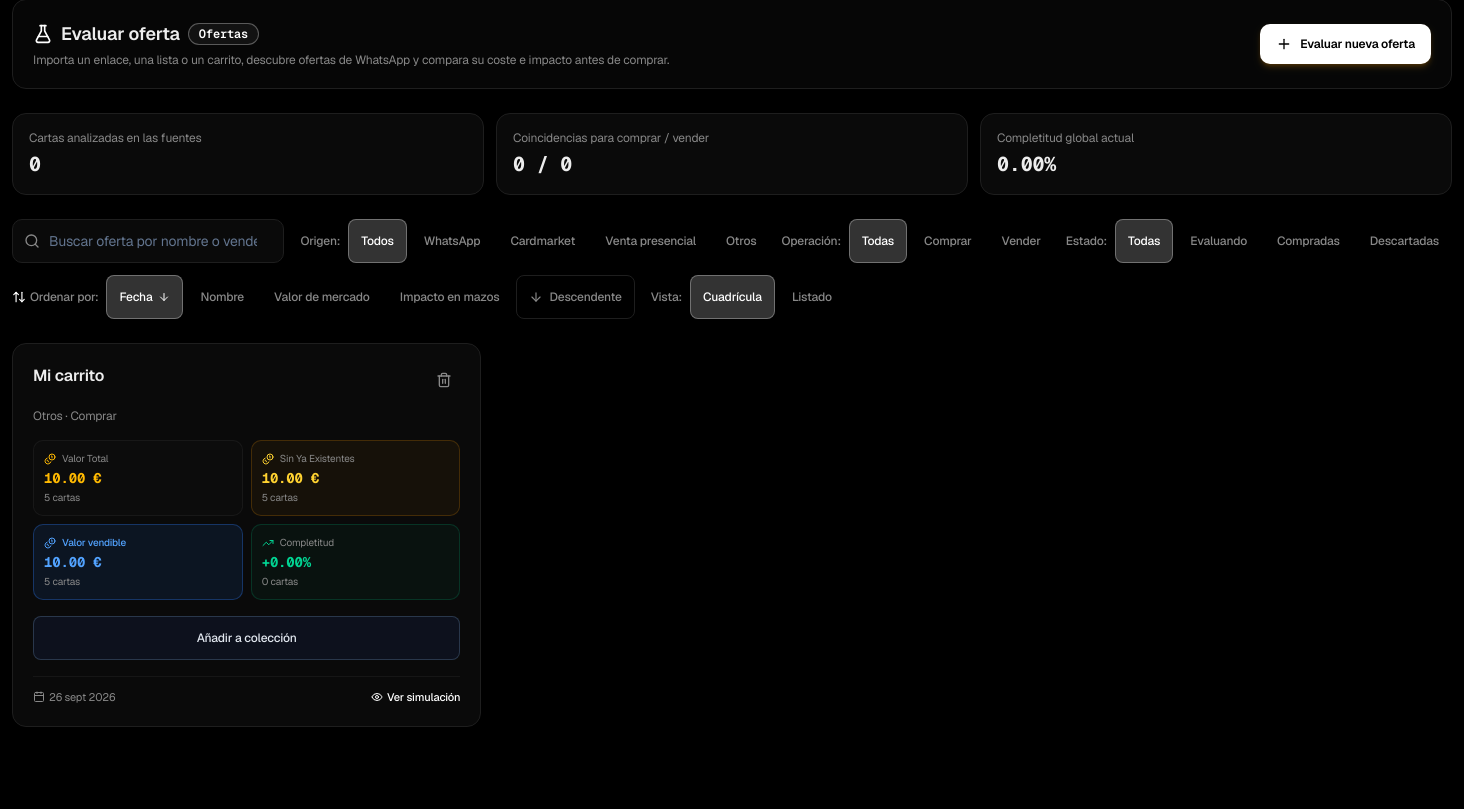
Test: deletes selected cards optimistically and continues after one card fails
Click the heading "Mi carrito" at (69, 376), box [33,364,104,388]
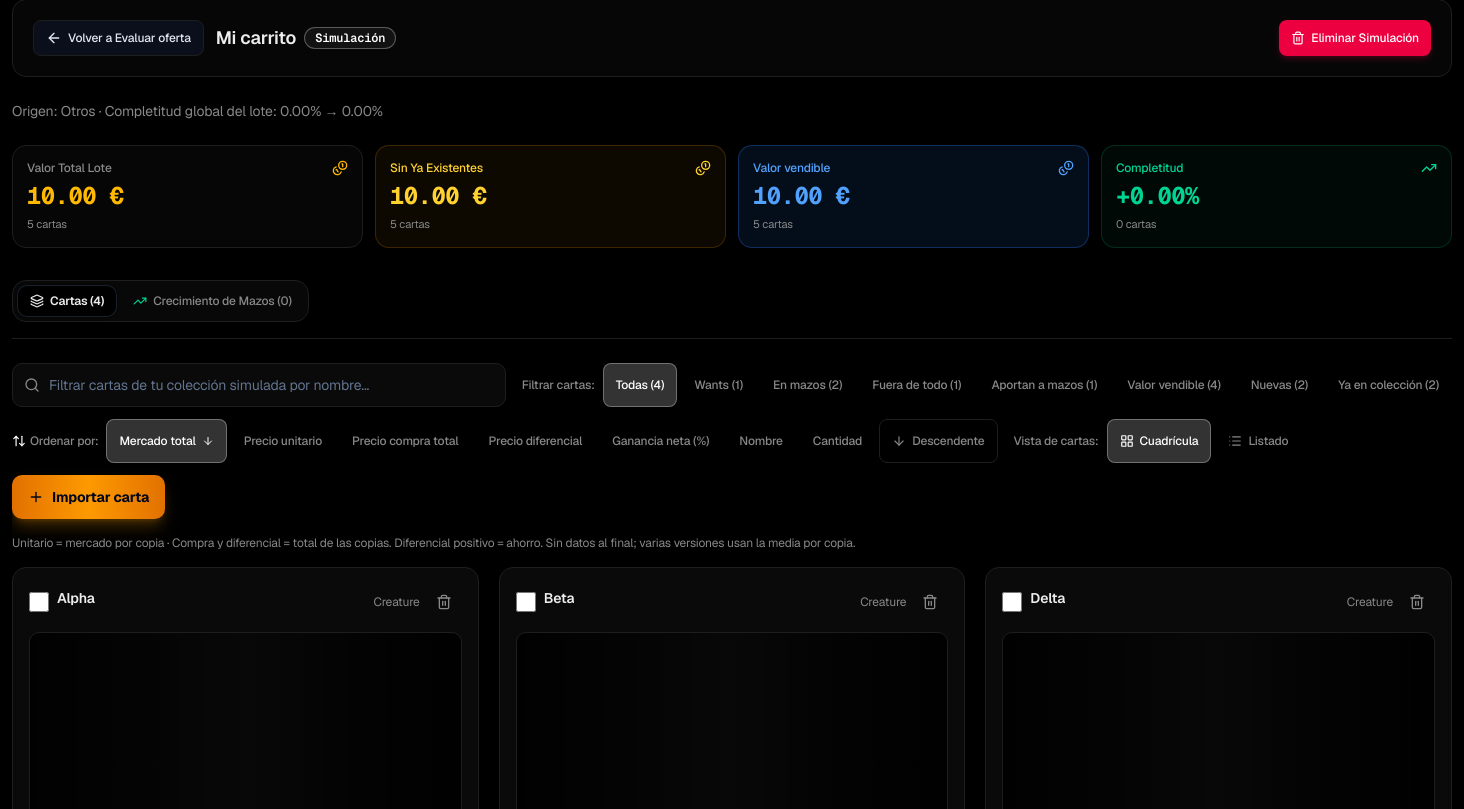
Click the checkbox named "Seleccionar Beta" at (526, 602), box [516,592,536,612]
(page scrolled)
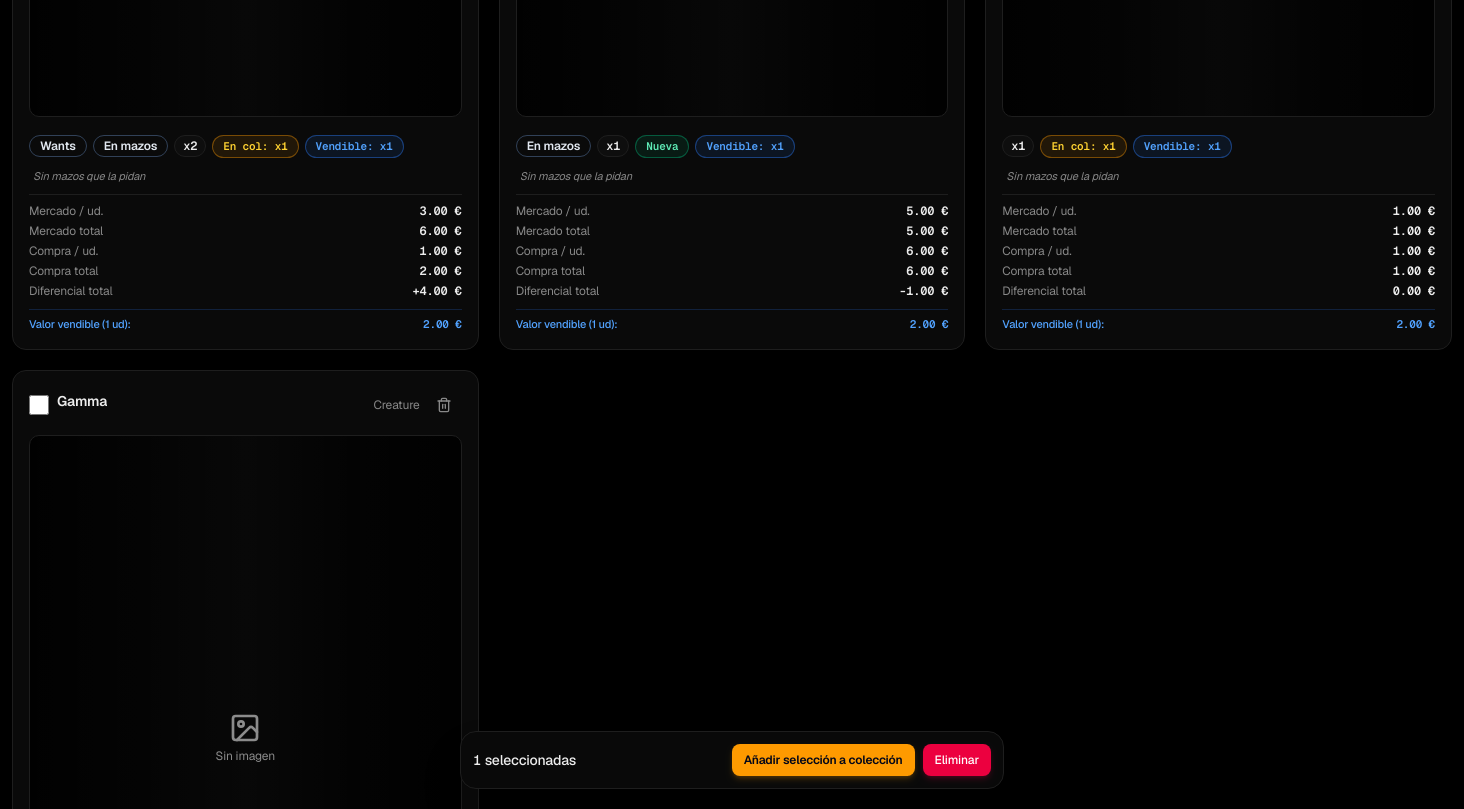
Click the checkbox named "Seleccionar Gamma" at (39, 405), box [29,395,49,415]
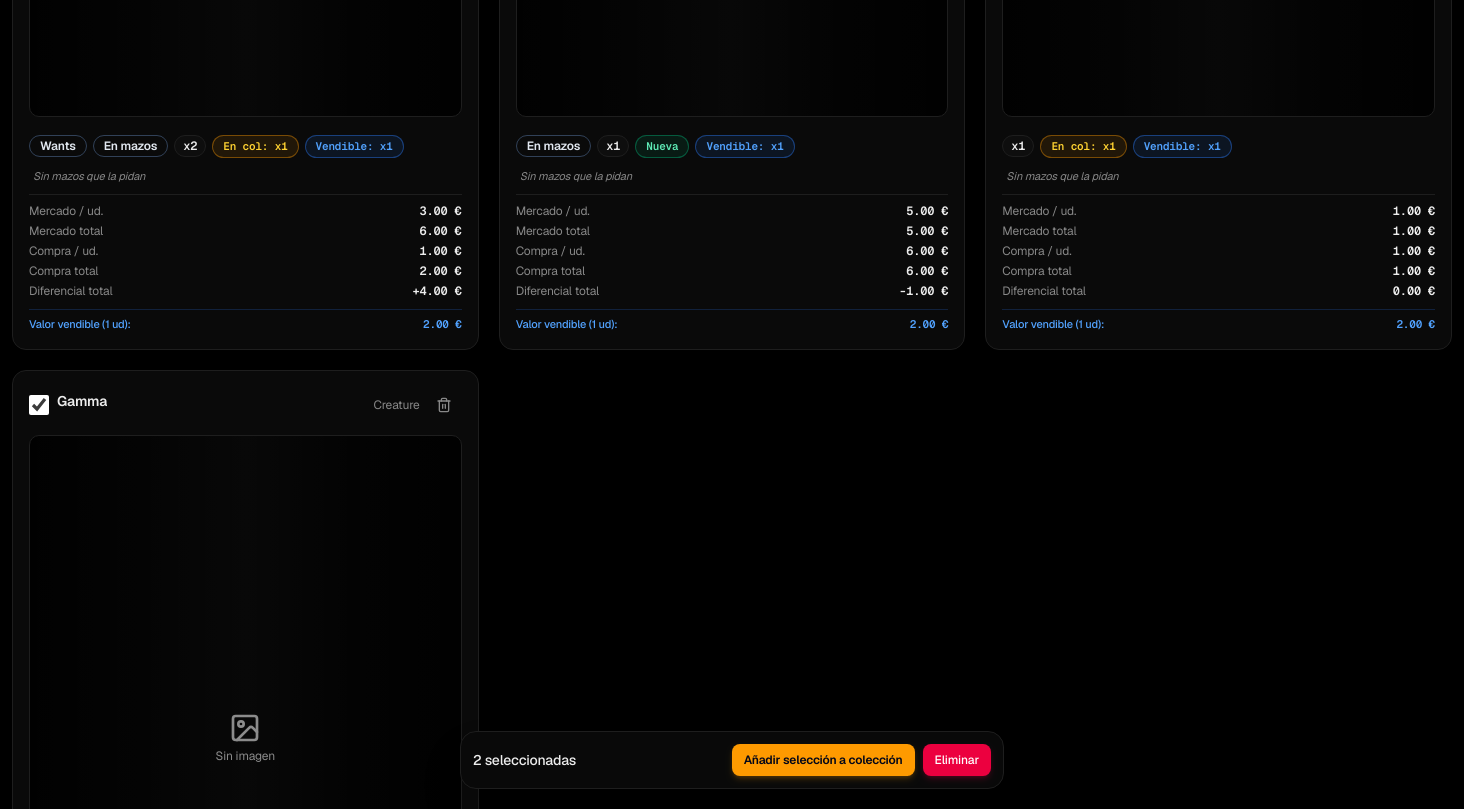
Click the button "Eliminar" at (957, 760), box [922,744,991,776]
(page scrolled)
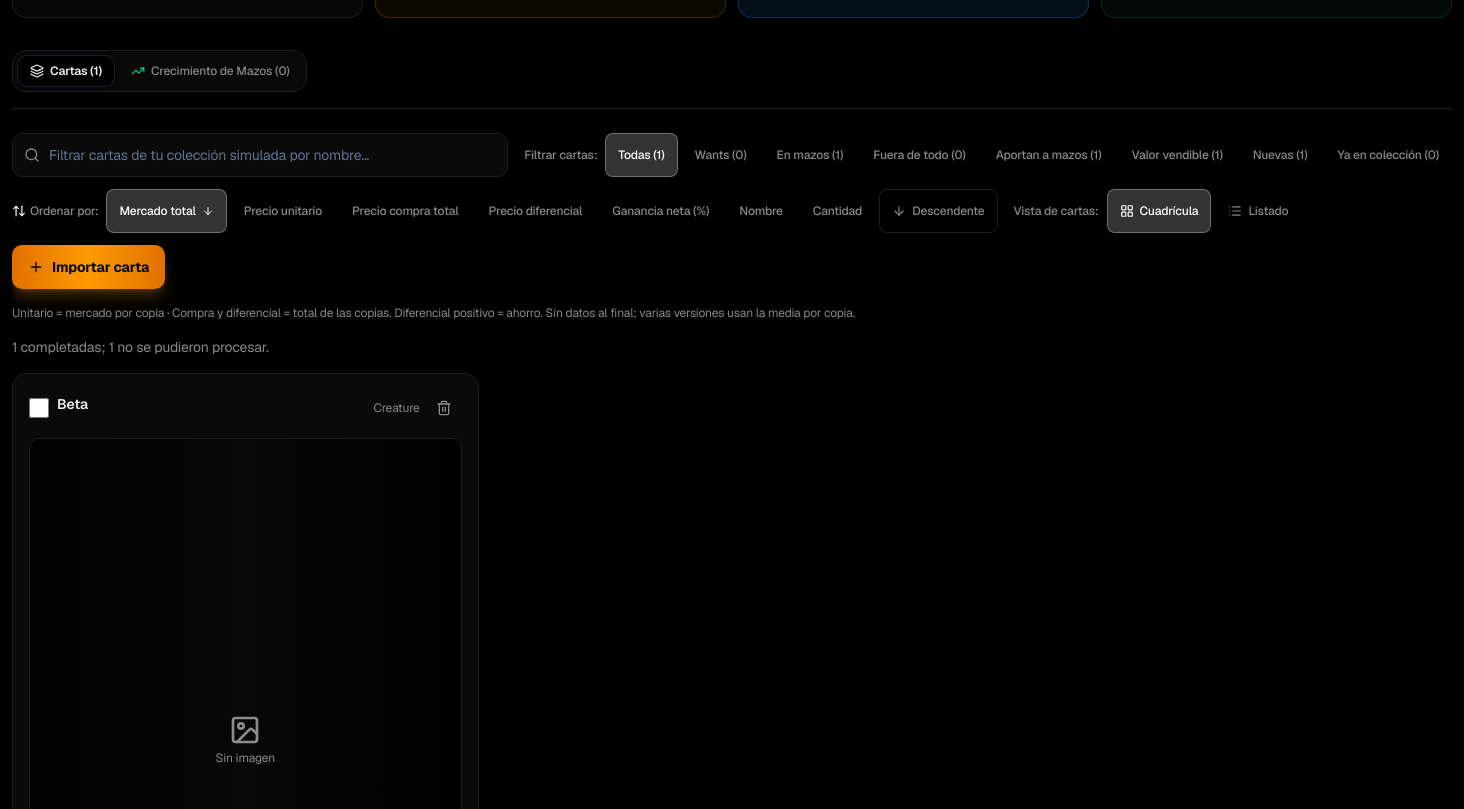
Expected: the heading "Beta" is shown, [57,394,88,414]
Expected: the message shows "1 completadas; 1 no se pudieron procesar", [12,338,269,356]
Expected: the heading "Gamma" is gone
